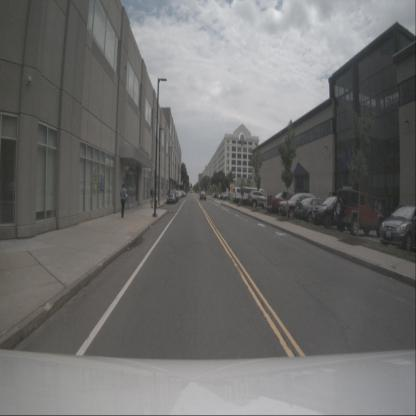human-pedestrian-adult: (120, 184, 126, 218), (150, 185, 154, 208)
vehicle-car: (334, 188, 384, 239), (380, 205, 416, 253), (312, 196, 352, 230), (295, 197, 332, 225), (279, 193, 318, 219), (240, 187, 267, 206), (247, 190, 272, 209), (232, 187, 249, 204), (166, 188, 176, 204), (223, 191, 237, 201), (170, 190, 178, 202), (200, 191, 206, 201)
vehicle-truck: (266, 191, 302, 216)
